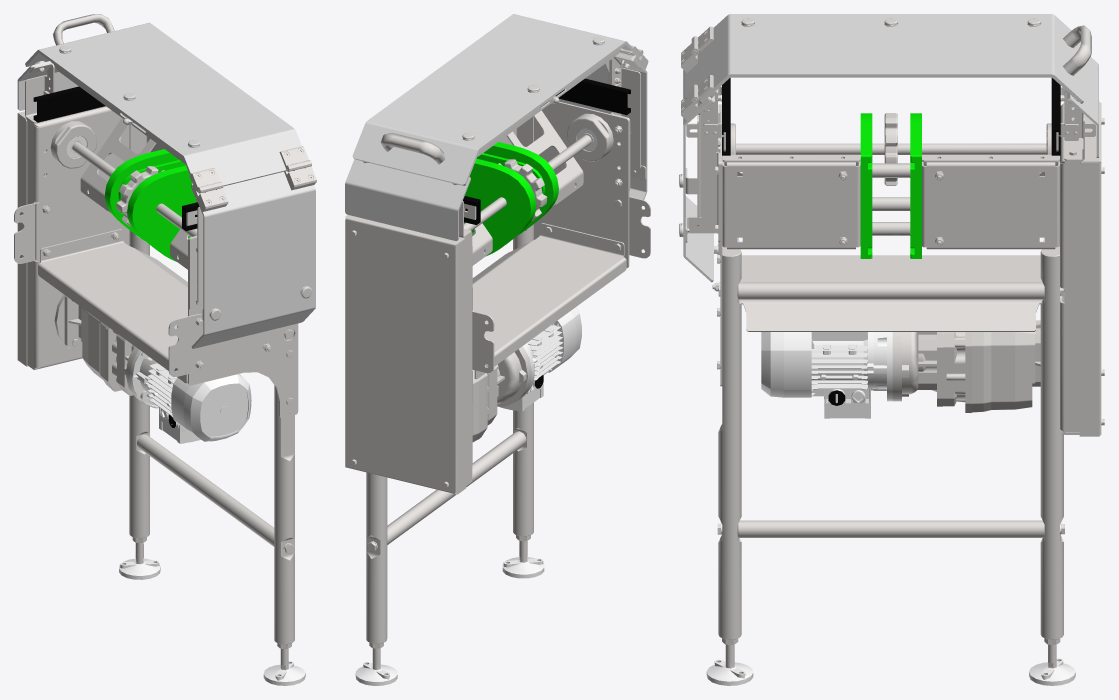
3 views of the same model, side by side, from view 1: azimuth 30°, elevation 25°; view 2: azimuth 150°, elevation 25°; view 3: azimuth 270°, elevation 25° (orthographic). The views are drawn at different scales.
Parts seen in each view (by area): view 1: base, glass; view 2: base, glass; view 3: base, glass.
Part boxes in pixels (x1,y1,x2,y2): base: (14,14,316,685); glass: (17,22,315,348); base: (345,37,650,685); glass: (345,14,647,240); base: (679,18,1104,685); glass: (683,14,1098,282).
Bounding box in the file's own units: 0.307 × 1.16 × 0.7286.
Materials: 1 (1 with a texture image).
